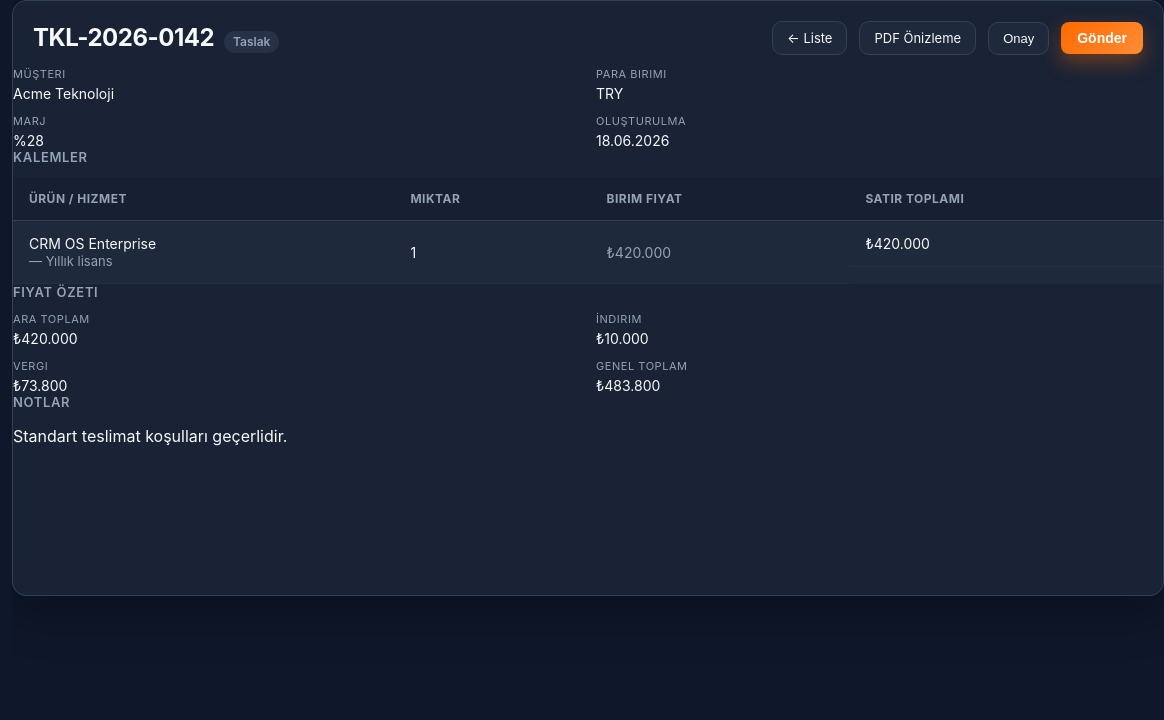
Test case: QuoteBuilderView › sends quote from builder view
The width and height of the screenshot is (1164, 720).
Click the button with test id "quote-send-button" at (1102, 38), box [1061,22,1143,54]
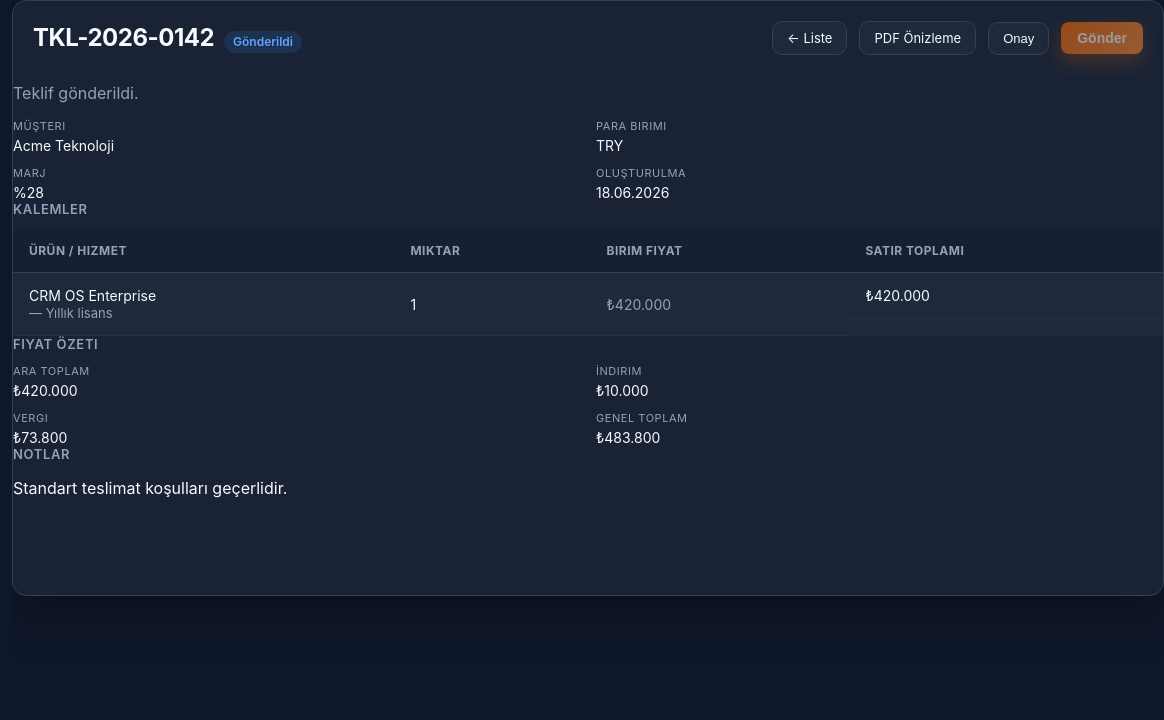
Check: the text "Teklif gönderildi." is shown, box [13,83,139,103]
